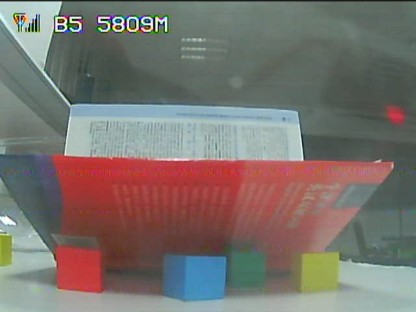b: (166, 254, 224, 299)
g: (229, 253, 264, 286)
r: (57, 246, 101, 291)
